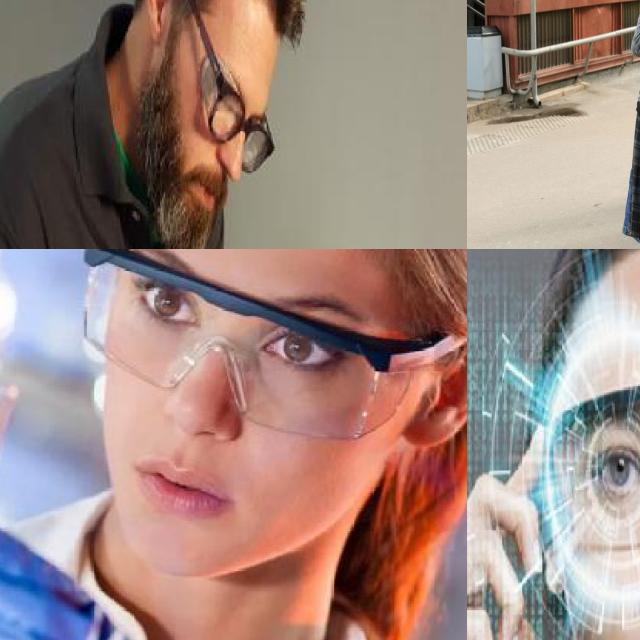No_Ear-Protection: (403, 337, 467, 446), (142, 0, 173, 44)
face_nomask: (112, 264, 352, 524), (183, 69, 274, 233), (583, 429, 640, 640)
glasses: (79, 249, 461, 445), (163, 0, 274, 174), (546, 376, 640, 552)
hand_glove: (0, 482, 162, 640)
hand_noglove: (467, 424, 558, 640)
person: (0, 0, 311, 249)
